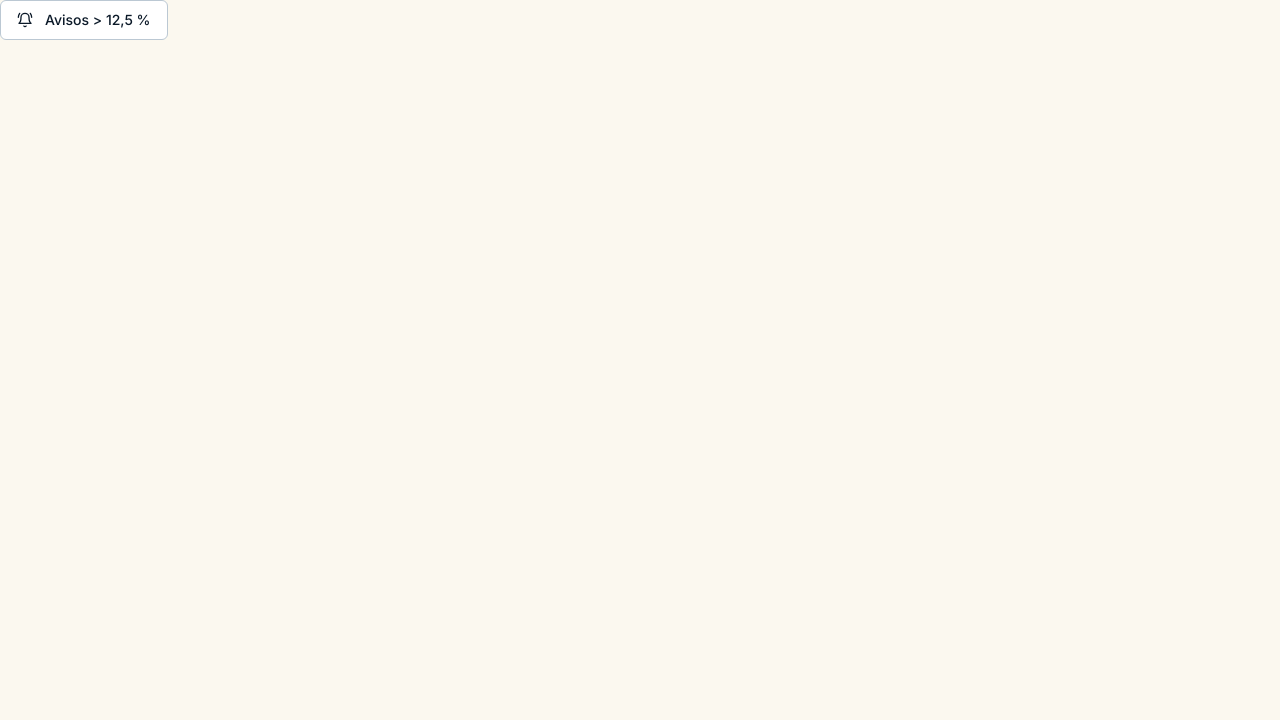
Test: AvisosPrecio › sin permiso de edición y con avisos activos, dice el umbral
What coordinates should you click on to do the following:
click the button with aria-label "Avisos de subida de precio"
I would click on:
 (84, 20)
Its box is [0,0,168,40].
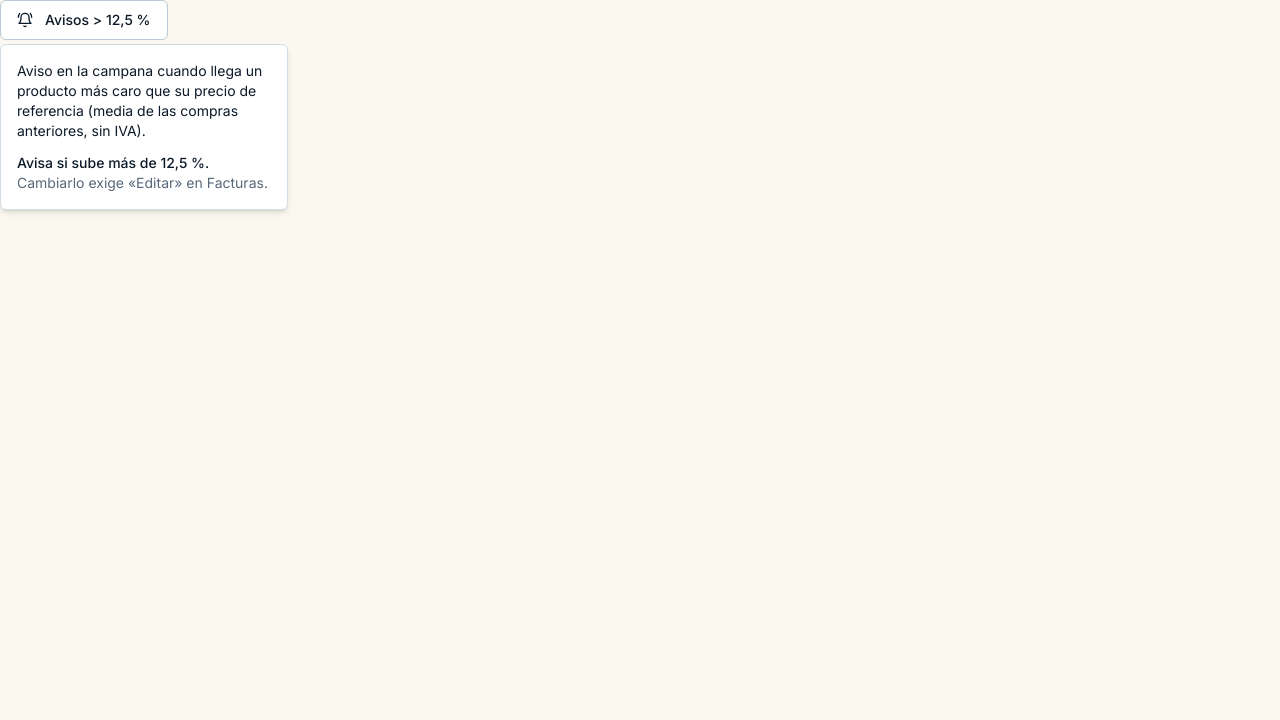
Now the element with test id "avisos-precio-solo-lectura" shows "Avisa si sube más de 12,5 %.", box [17,154,209,171]
